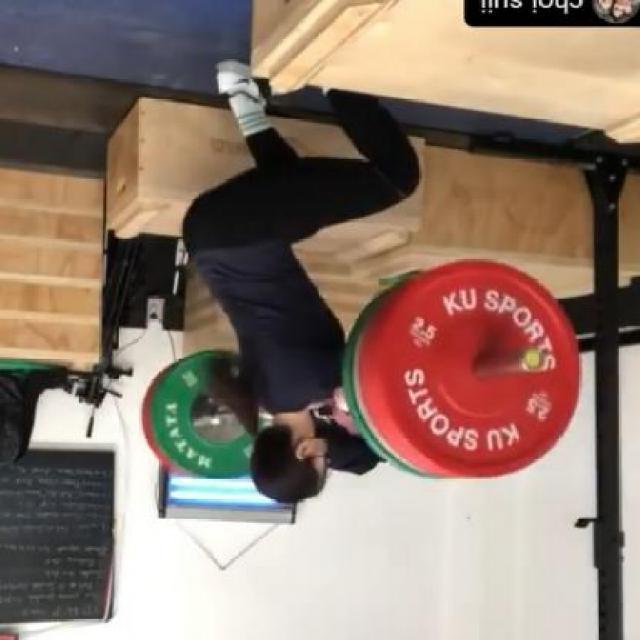Barbell: (515, 342, 551, 376)
